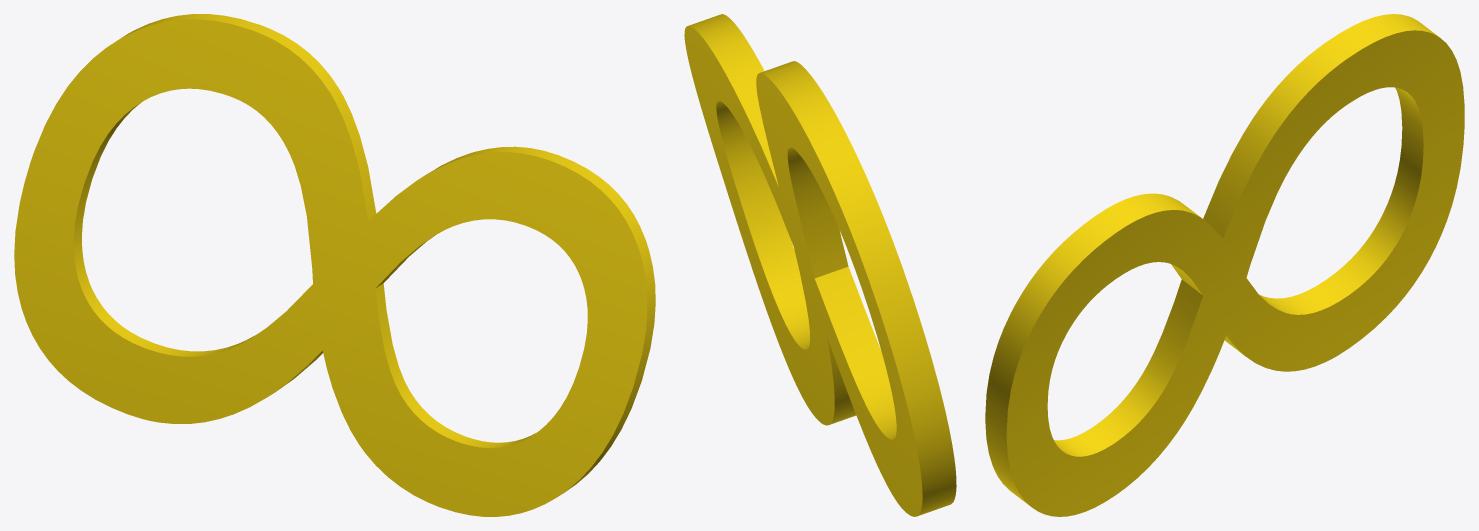
The model's file is Number_8.gltf.
The picture shows the model from 3 angles, left to right: view 1: azimuth 30°, elevation 25°; view 2: azimuth 150°, elevation 25°; view 3: azimuth 270°, elevation 25°; orthographic projection. The views are drawn at different scales.
Parts seen in each view (by area): view 1: Sub_6_Cell_2_1_Number_8; view 2: Sub_6_Cell_2_1_Number_8; view 3: Sub_6_Cell_2_1_Number_8.
Part boxes in pixels (x1,y1,x2,y2): Sub_6_Cell_2_1_Number_8: [14, 14, 655, 516]; Sub_6_Cell_2_1_Number_8: [684, 14, 956, 516]; Sub_6_Cell_2_1_Number_8: [985, 14, 1464, 516].
Bounding box in the file's own units: 0.0198 × 0.0187 × 0.0193.
